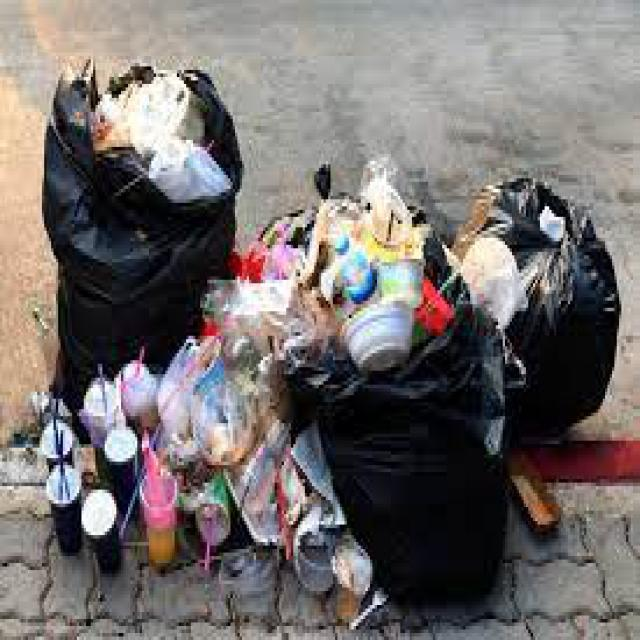Trashbag: (20, 65, 258, 353), (312, 362, 526, 599), (505, 158, 624, 458)
